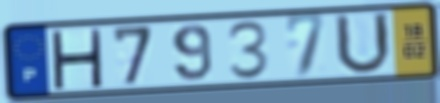3: (226, 19, 271, 81)
7: (283, 11, 327, 83), (110, 24, 155, 88)
9: (169, 23, 214, 84)
H: (48, 28, 104, 89)
U: (332, 11, 395, 78)
